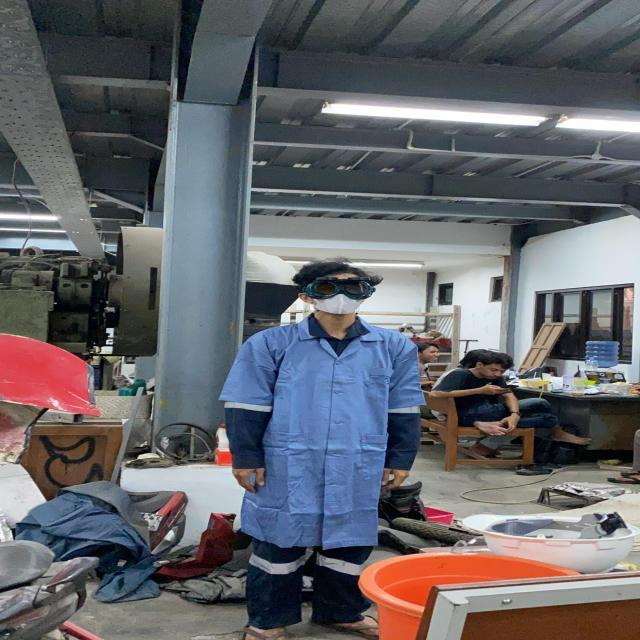glasses: (296, 274, 382, 302)
